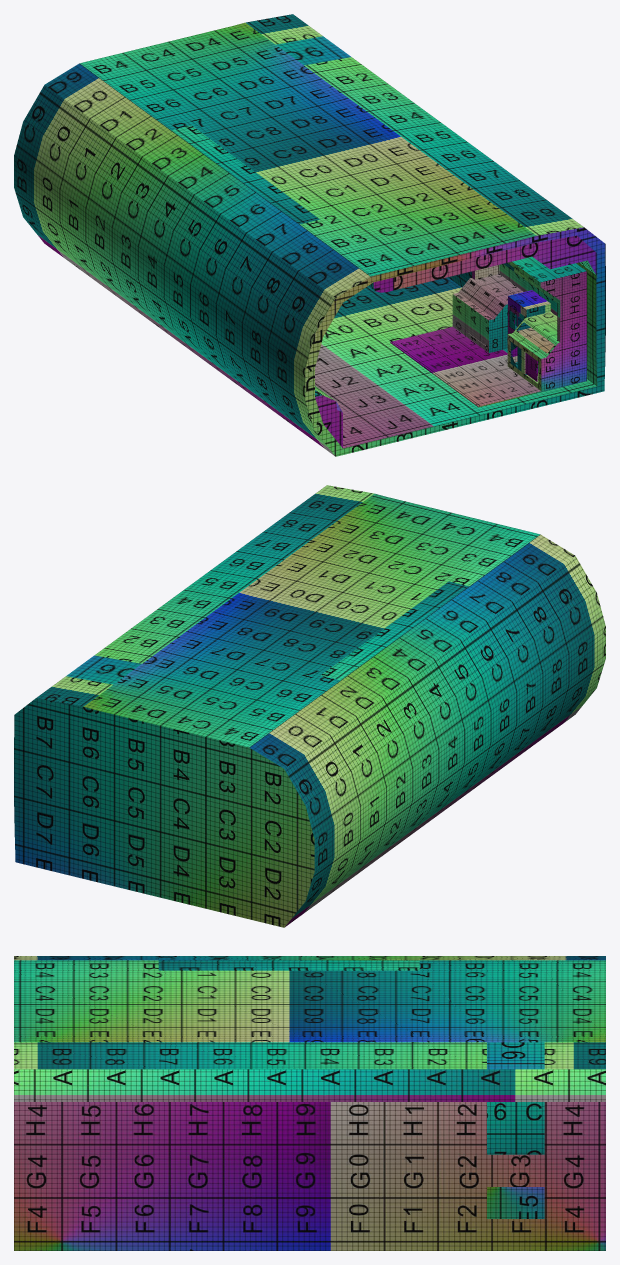
3 views of the same model, one above another, from view 1: azimuth 30°, elevation 25°; view 2: azimuth 150°, elevation 25°; view 3: azimuth 270°, elevation 25° (orthographic).
Visible parts, largest first — view 1: Hallway, Hall_Final:pCube1; view 2: Hallway; view 3: Hallway.
Part boxes in pixels (x1,y1,x2,y2): Hallway: [14, 14, 605, 456]; Hall_Final:pCube1: [390, 256, 586, 407]; Hallway: [14, 485, 605, 927]; Hallway: [14, 956, 605, 1250].
Bounding box in the file's own units: 13.35 × 7.3 × 22.39.
Materials: 2 (1 with a texture image).
